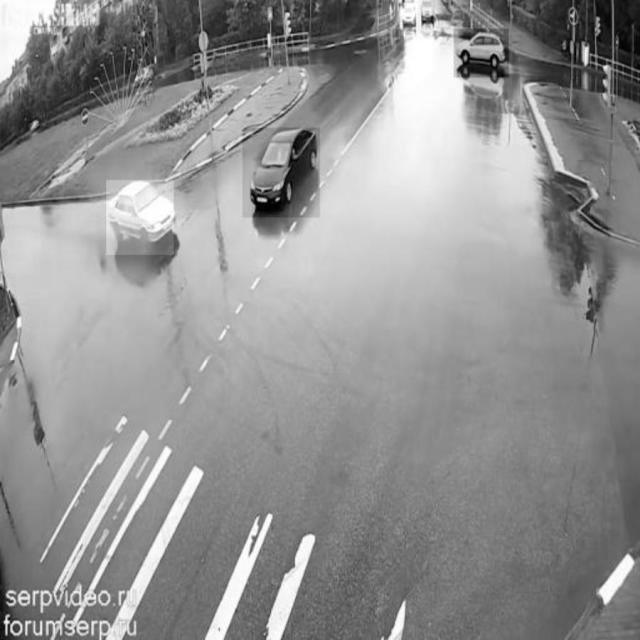vehicle: (243, 128, 321, 218), (107, 180, 174, 254), (454, 29, 509, 77), (417, 0, 435, 34), (400, 3, 418, 30)
